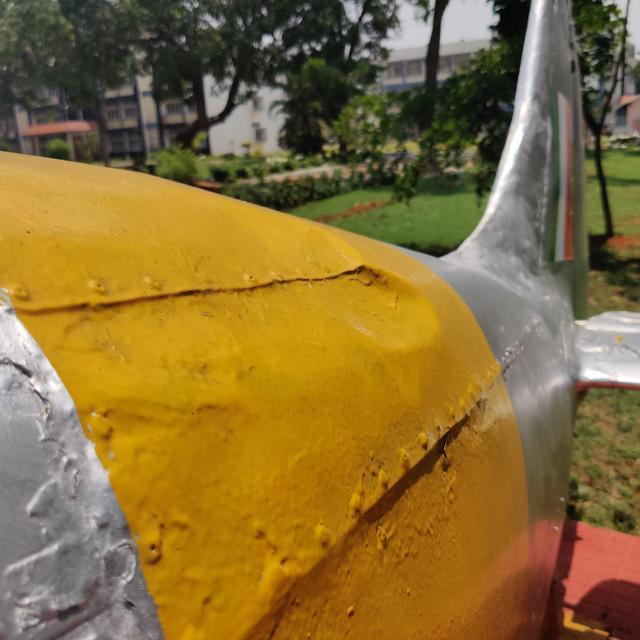dent: (316, 250, 454, 386)
